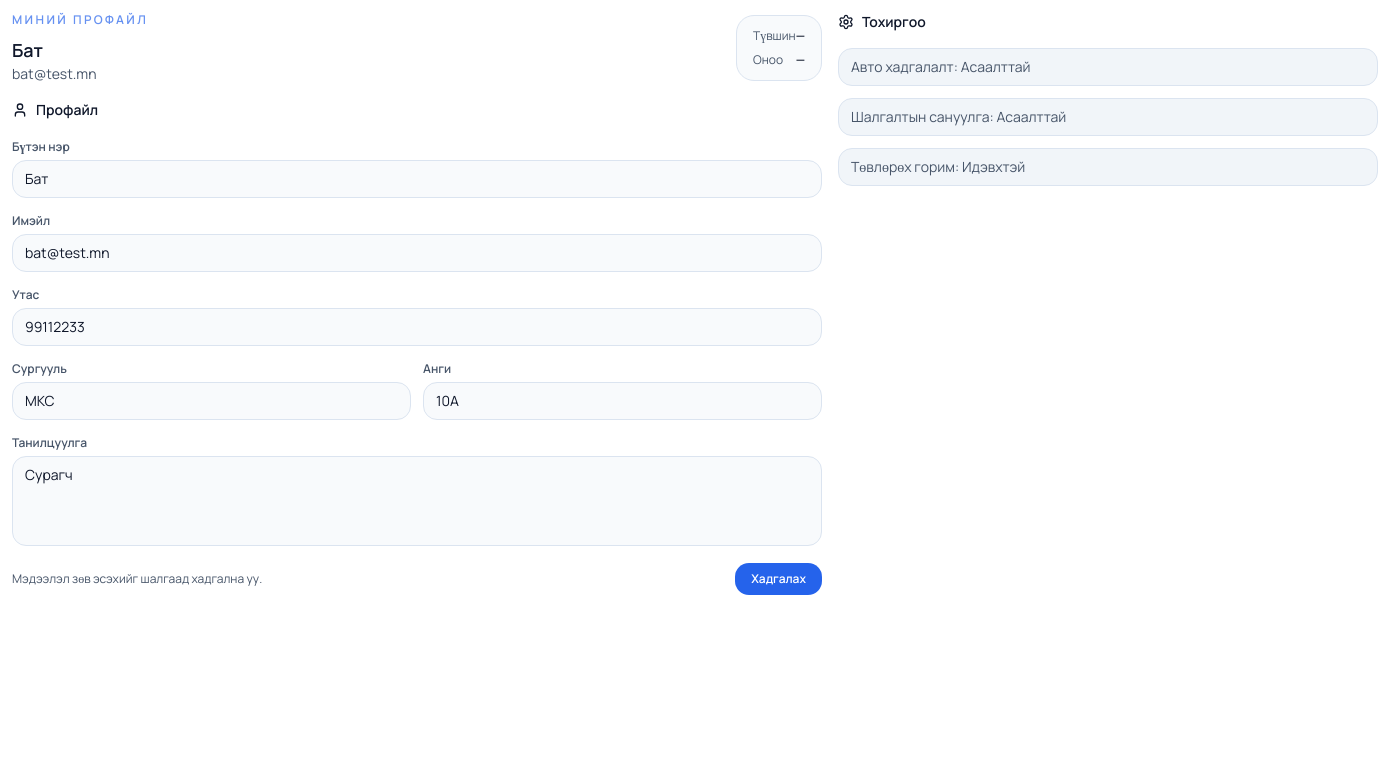
StudentSettingsTab › shows success message after save
Check: the field showing "bat@test.mn" below "Имэйл" is shown, box left=12, top=234, right=822, bottom=272
Click the button "Хадгалах": [779, 579] box left=735, top=563, right=822, bottom=595
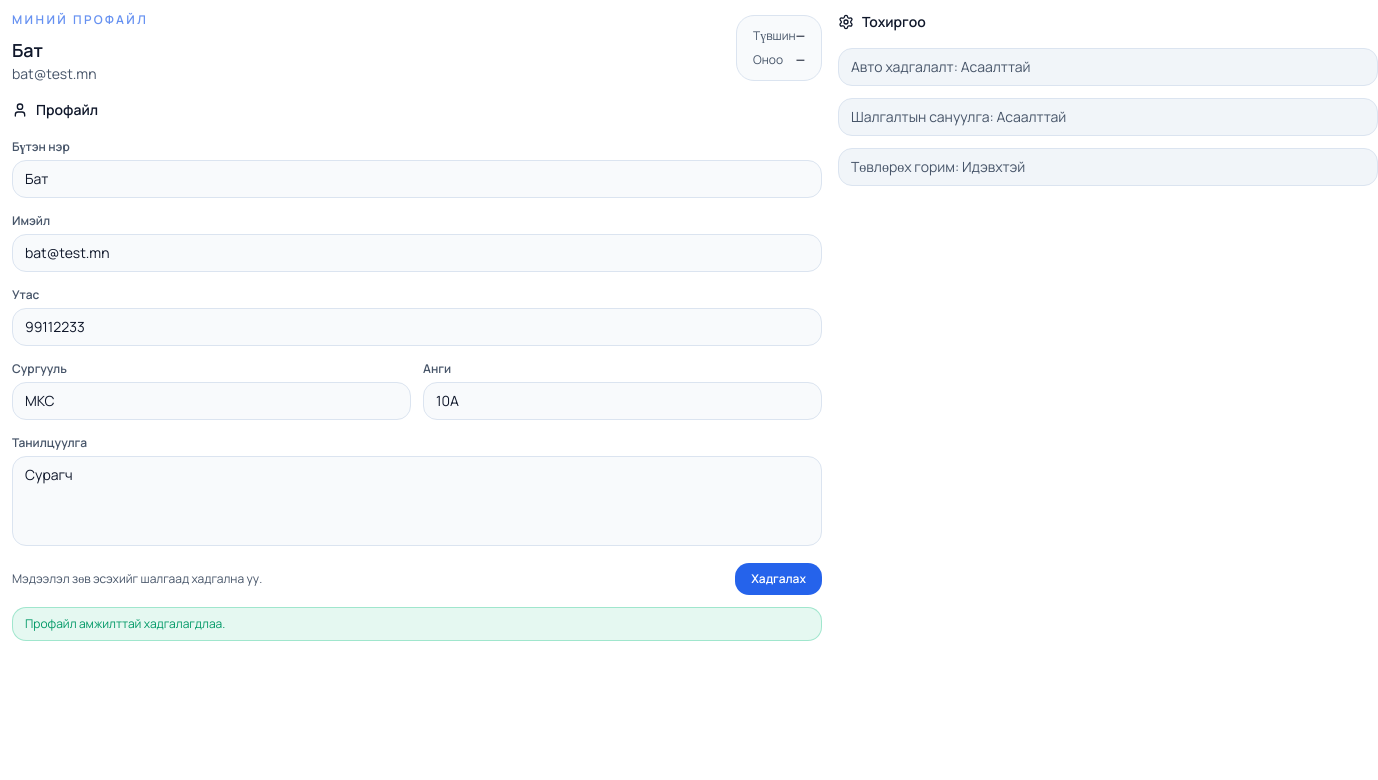
Check: the text "Профайл амжилттай хадгалагдлаа." is shown, box left=12, top=607, right=822, bottom=641
